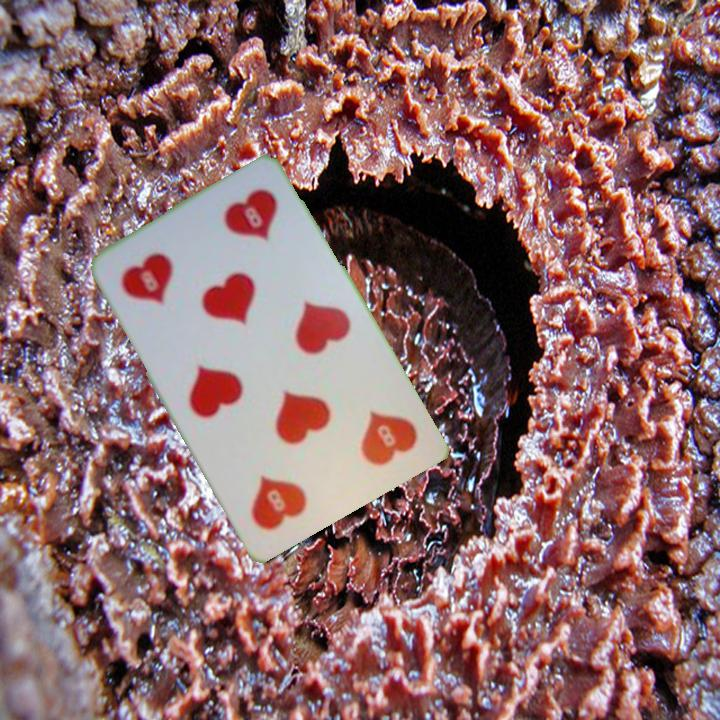h_8.png: (103, 217, 230, 339), (302, 375, 429, 497)
